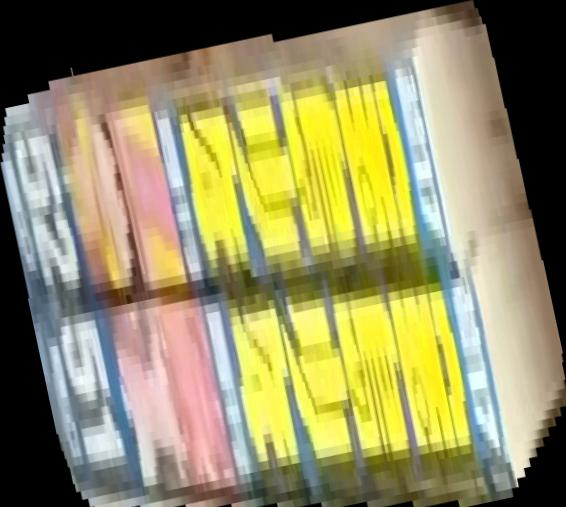flat: (1, 1, 566, 507)
